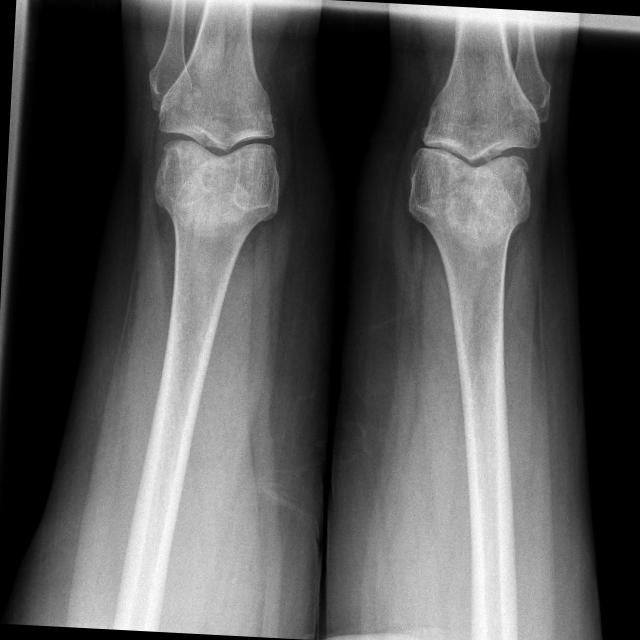Knee: (405, 90, 545, 222), (148, 88, 286, 214)
